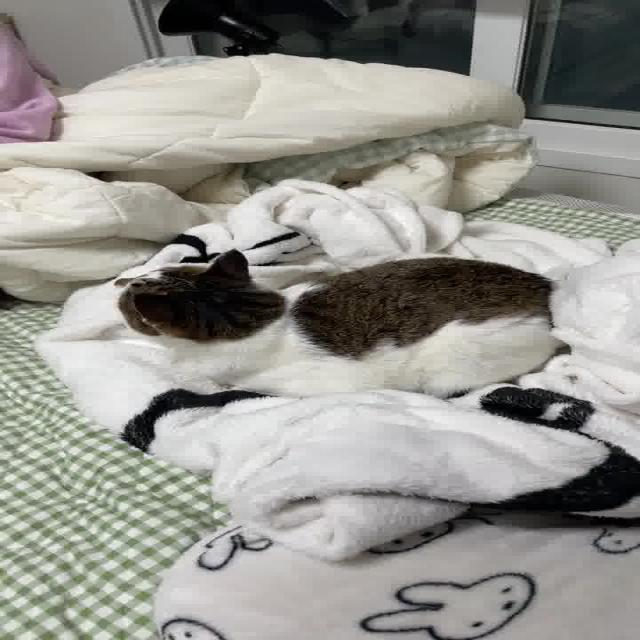cat: (62, 238, 609, 418)
